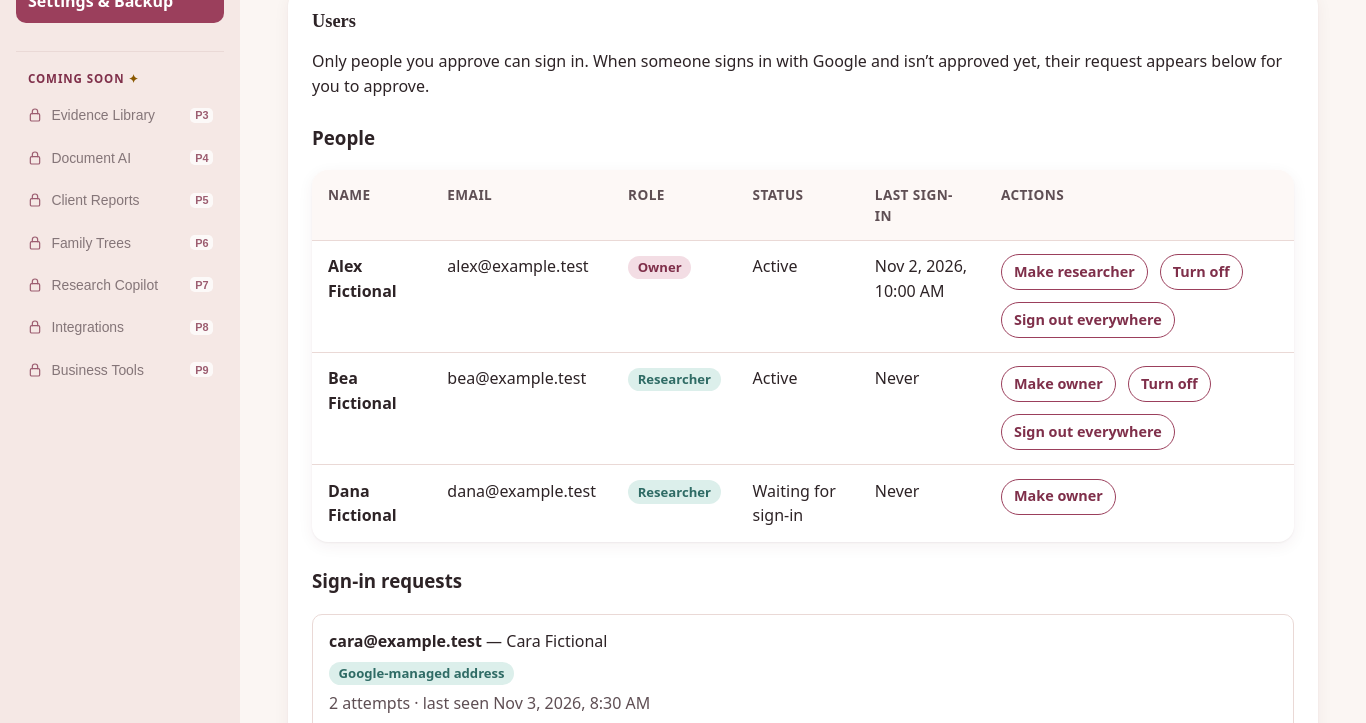
it: Users administration › reloads the list and says so when a change is stale
(page scrolled)
Expected: the heading "Users" is shown, [312,11,356,31]
Expected: the row with test id "user-u-bea" is shown, [312,353,1294,465]
Click the button with aria-label "Turn off Bea Fictional".
click(1169, 384)  # box [1128,366,1211,402]
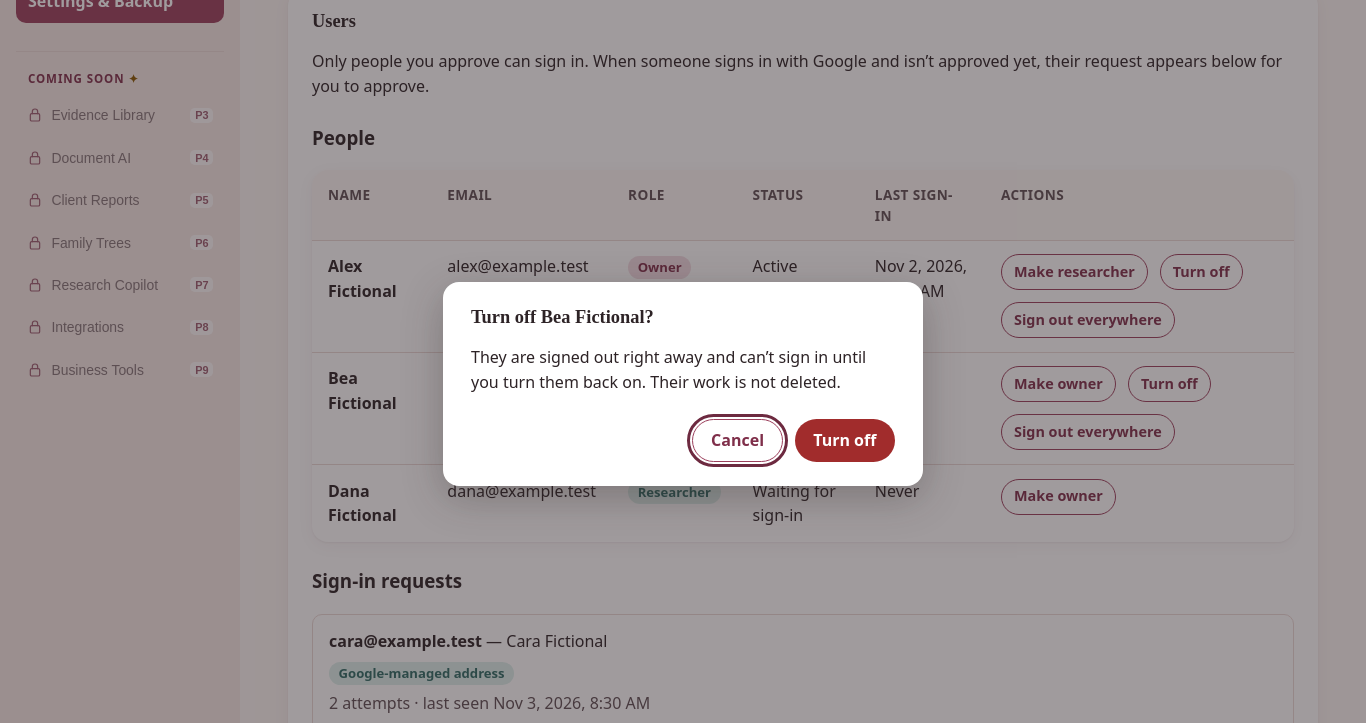
Click the button "Turn off".
click(845, 440)  # box [795,419,895,462]
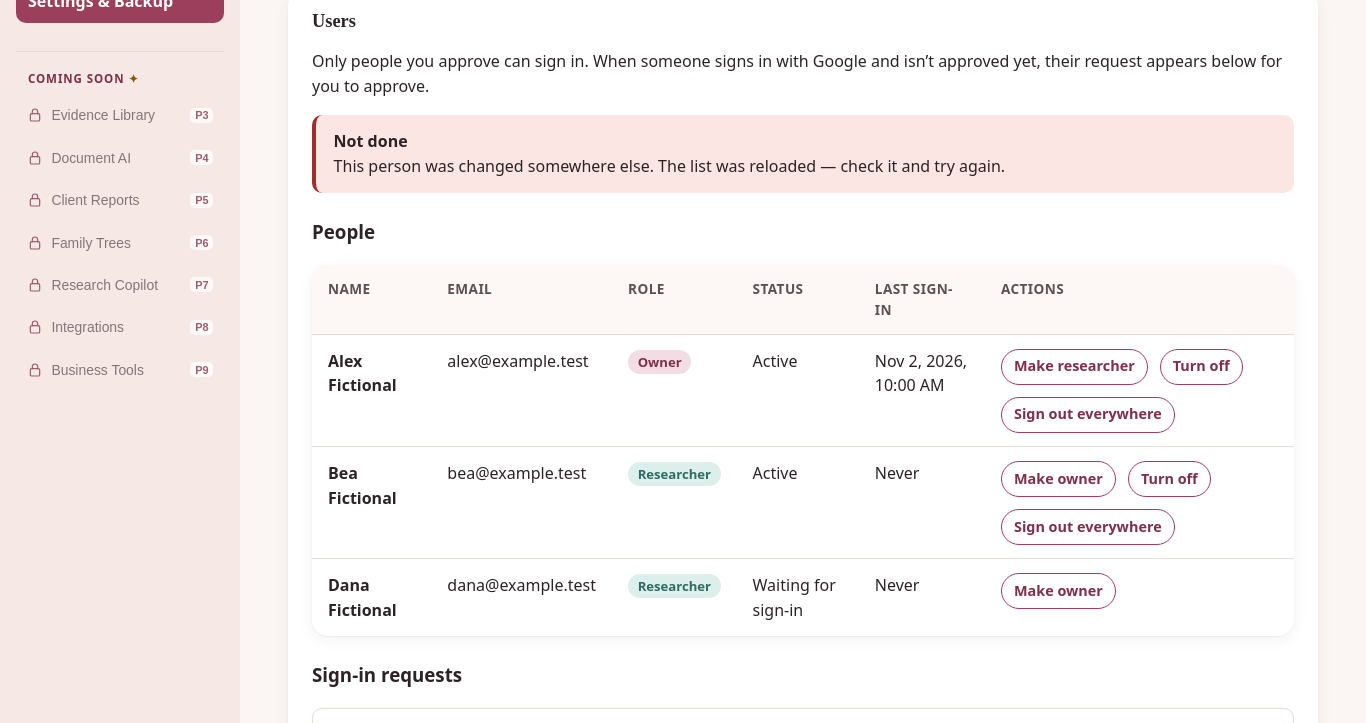
Expected: the text "changed somewhere else" is shown, [334,155,1005,177]
